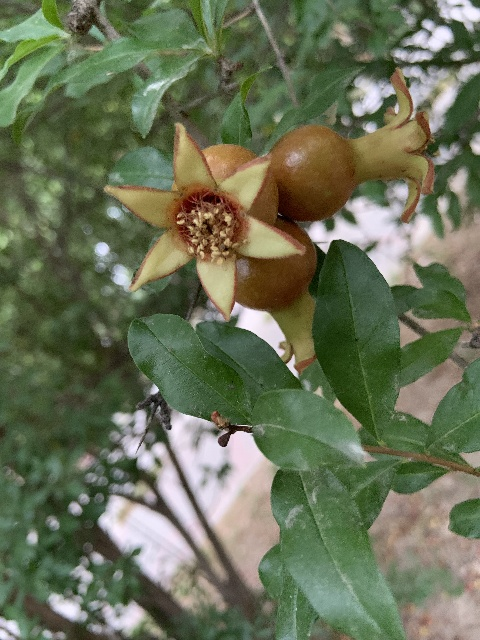early-fruit: (104, 121, 308, 320), (265, 68, 434, 225), (234, 214, 318, 374)
